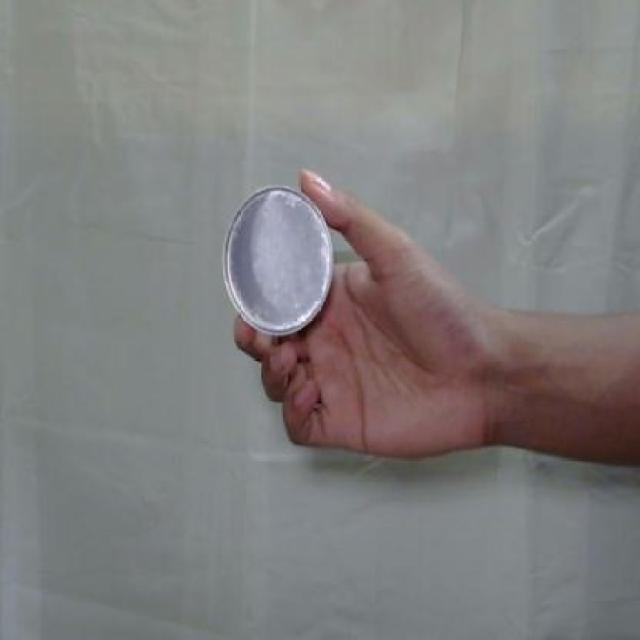Metal: (219, 178, 336, 339)
